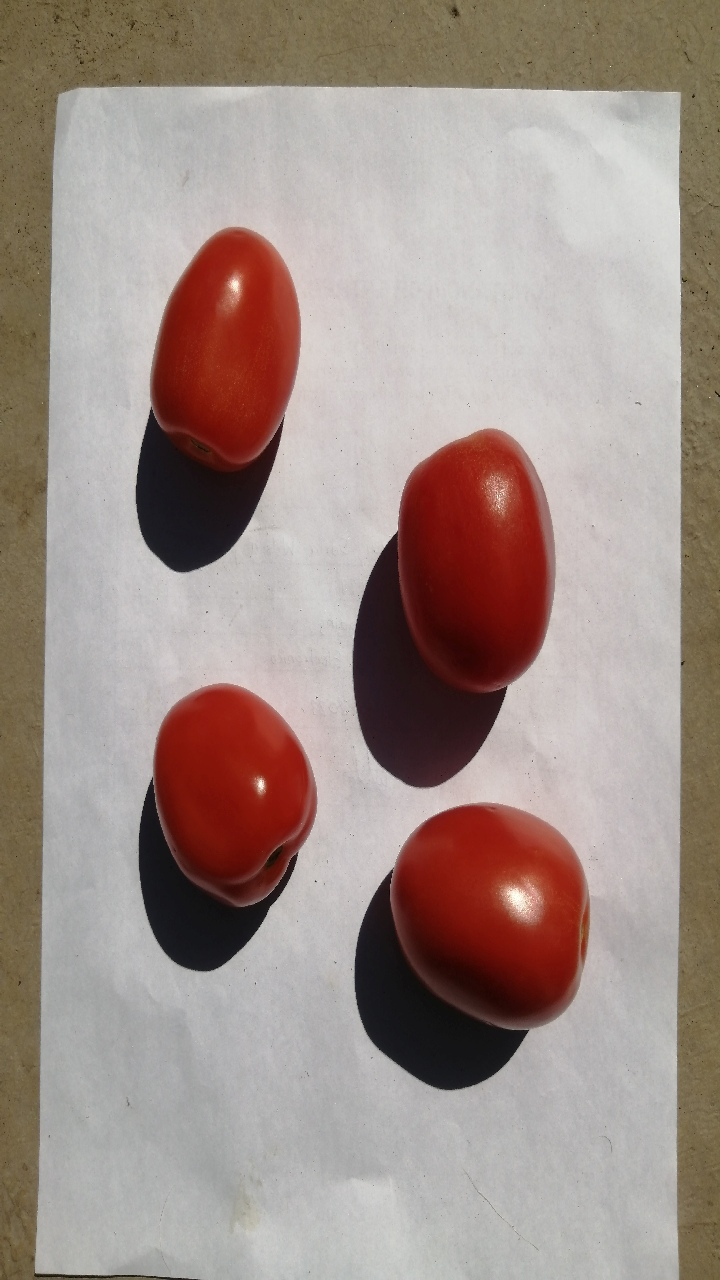tomateRojo: (374, 792, 609, 1049), (371, 409, 568, 708), (134, 202, 326, 489), (135, 657, 324, 935)
